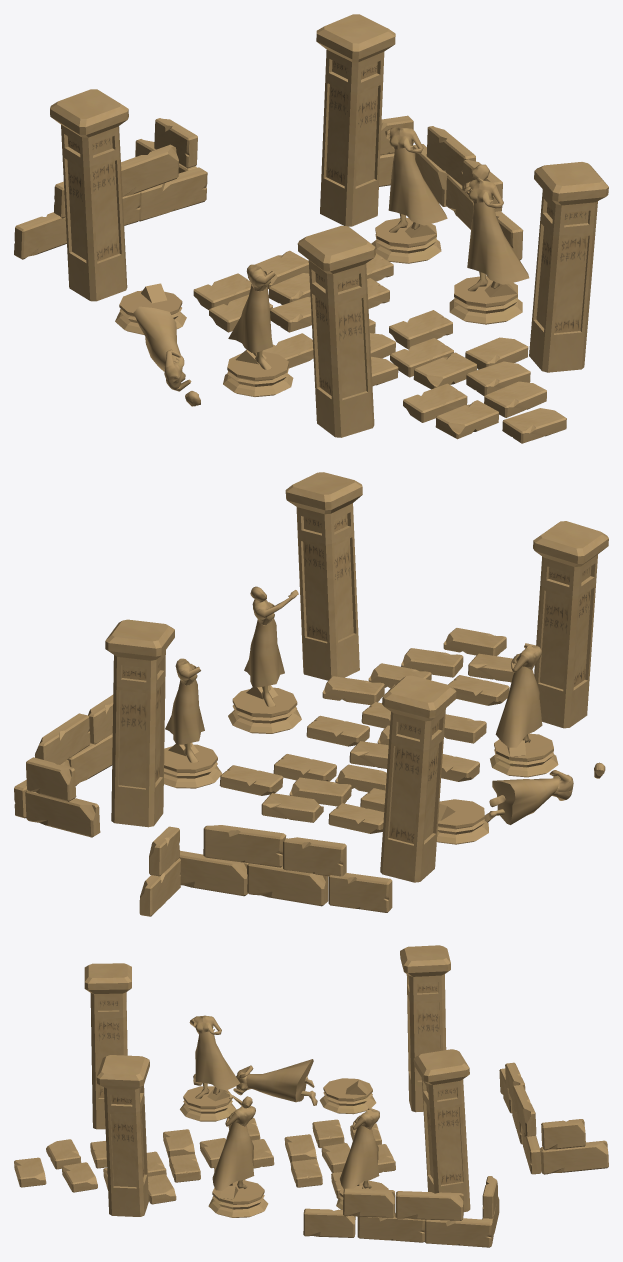
Rendered from RuinsFull.fbx.
3 renders of one model, top to bottom at view 1: azimuth 30°, elevation 25°; view 2: azimuth 150°, elevation 25°; view 3: azimuth 270°, elevation 25°, orthographic. The views are drawn at different scales.
Visible parts, largest first — view 1: RuinsFull; view 2: RuinsFull; view 3: RuinsFull.
Boxes of the visible parts, bbox=[...] form: RuinsFull: bbox=[14, 14, 608, 443]; RuinsFull: bbox=[14, 472, 608, 916]; RuinsFull: bbox=[14, 945, 608, 1247].
Size of the model in its own units: 35.66 by 15.82 by 55.24.
Materials: 1 (1 with a texture image).
